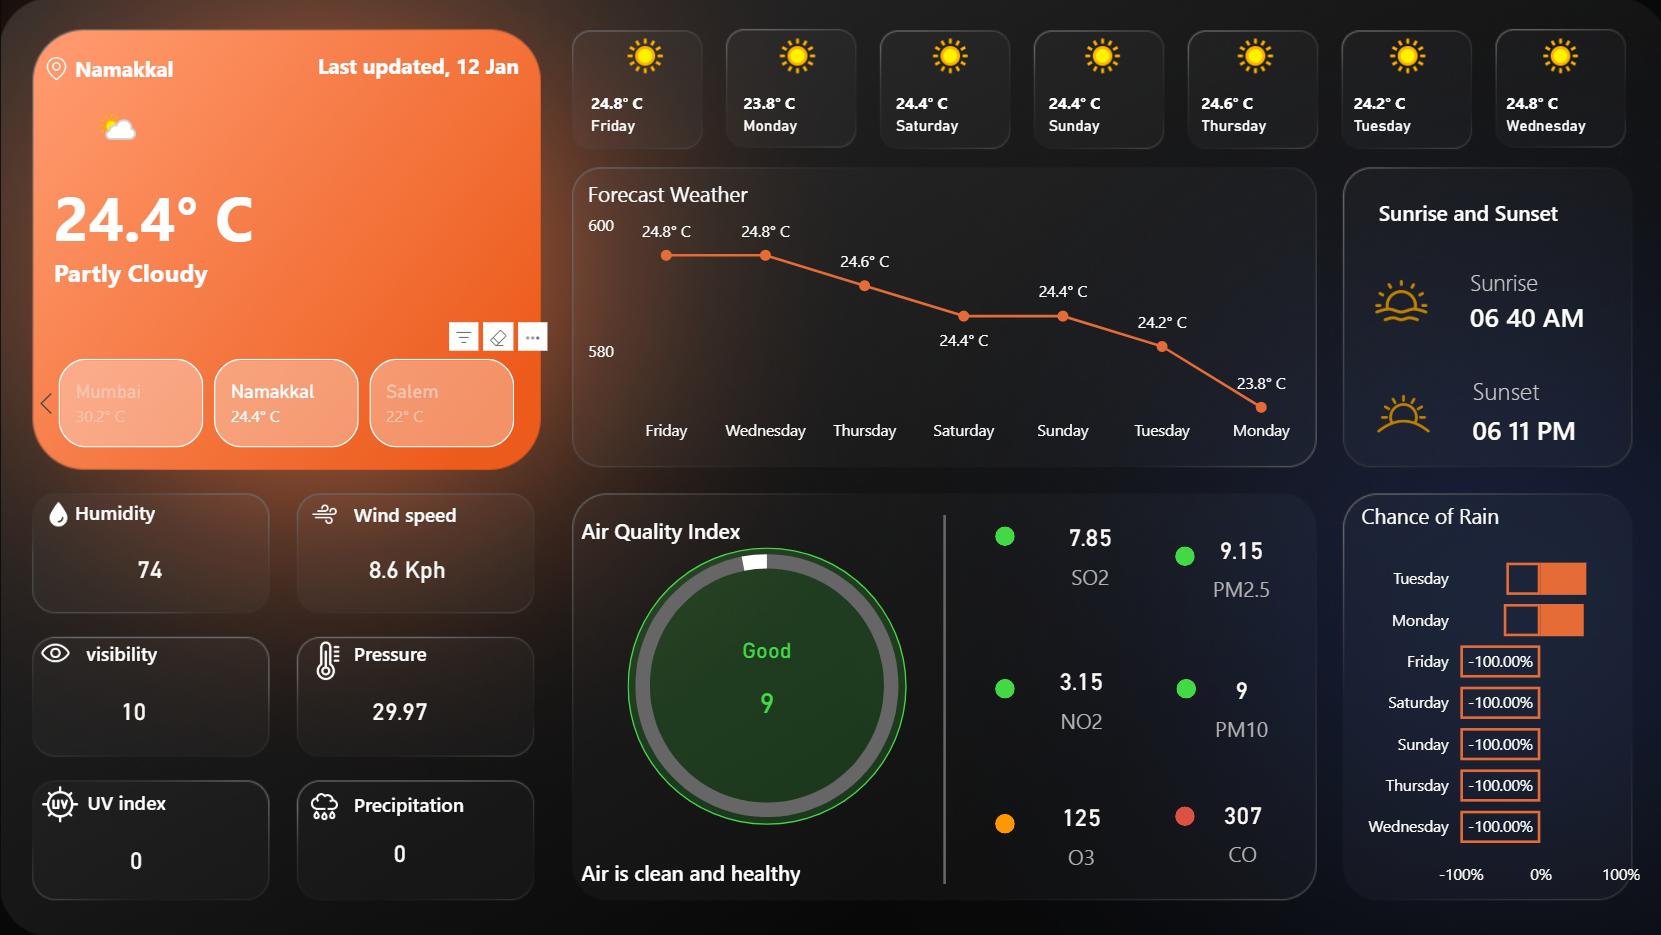

The page's visual inventory and layout, read from the dashboard file:
{"tool":"powerbi","page":{"name":"Page 1","canvas":[1280,720],"ordinal":0},"visuals":[{"type":"shape","box":[481.6,419.9,214.1,212.7],"z":0},{"type":"advancedSlicerVisual","fields":{"Values":["Location.location.name"]},"box":[20.6,270.3,400.7,78.2],"z":1000},{"type":"shape","box":[41.2,126.2,207.2,78.2],"z":2000},{"type":"shape","box":[41.2,188,345.8,41.2],"z":3000},{"type":"shape","box":[57.6,31.6,144.1,41.2],"z":4000},{"type":"shape","box":[238.8,31.6,159.2,35.7],"z":5000},{"type":"image","box":[30.2,37,27.4,30.2],"z":6000},{"type":"cardVisual","fields":{"Data":["Min(current.current.condition.icon)"]},"box":[20.6,54.9,104.3,89.2],"z":7000},{"type":"image","box":[20.6,483,45.3,35.7],"z":8000},{"type":"shape","box":[65.9,483,111.1,35.7],"z":9000},{"type":"image","box":[22,380.1,45.3,30.2],"z":10000},{"type":"image","box":[24.7,596.9,42.5,39.8],"z":11000},{"type":"image","box":[231.9,483,39.8,46.7],"z":12000},{"type":"image","box":[222.3,601,52.1,35.7],"z":13000},{"type":"image","box":[225,380.1,46.7,30.2],"z":14000},{"type":"shape","box":[271.7,483,111.1,35.7],"z":15000},{"type":"shape","box":[67.2,596.9,63.1,35.7],"z":16000},{"type":"shape","box":[271.7,380.1,93.3,30.2],"z":17000},{"type":"shape","box":[57.6,374.6,111.1,35.7],"z":18000},{"type":"shape","box":[271.7,601,93.3,31.6],"z":19000},{"type":"card","fields":{"Values":["Sum(current.current.humidity)"]},"box":[39.8,408.9,149.6,56.3],"z":20000},{"type":"card","fields":{"Values":["_Measures.Wind_speed"]},"box":[237.4,408.9,149.6,56.3],"z":21000},{"type":"card","fields":{"Values":["Sum(current.current.vis_km)"]},"box":[27.4,518.7,149.6,56.3],"z":22000},{"type":"card","fields":{"Values":["Sum(current.current.uv)"]},"box":[30.2,632.6,149.6,56.3],"z":23000},{"type":"card","fields":{"Values":["Sum(current.current.pressure_in)"]},"box":[231.9,518.7,149.6,56.3],"z":24000},{"type":"card","fields":{"Values":["Sum(current.current.precip_in)"]},"box":[231.9,636.7,149.6,37],"z":25000},{"type":"advancedSlicerVisual","fields":{"Values":["forecast_day.Day_name"]},"box":[435,12.3,824.7,108.4],"z":26000},{"type":"lineChart","title":"Forecast Weather","fields":{"Y":["Sum(forecast_day.forecast.forecastday.day.avgtemp_c)"],"Category":["forecast_day.Day_name"]},"box":[446,137.2,557.1,211.3],"z":27000},{"type":"shape","box":[446,392.5,163.3,28.8],"z":28000},{"type":"shape","box":[1127.6,188.1,132.5,56.8],"z":29000},{"type":"shape","box":[1129.3,299.1,127.6,60.4],"z":30000},{"type":"shape","box":[1127.6,214.8,132.5,55.7],"z":31000},{"type":"shape","box":[1129.3,269,127.6,60.4],"z":32000},{"type":"image","box":[1038.8,285.4,74.1,63.1],"z":33000},{"type":"image","box":[1041.5,205.8,67.2,49.4],"z":34000},{"type":"hundredPercentStackedBarChart","title":"Chance of Rain","fields":{"Y":["Sum(forecast_day.forecast.forecastday.day.daily_chance_of_rain)","current.Left_value_rain"],"Category":["forecast_day.Day_name"]},"box":[1038.8,384.2,223.7,304.6],"z":35000},{"type":"shape","box":[1057,147.2,163.3,28.8],"z":36000},{"type":"card","fields":{"Values":["Sum(current.current.air_quality.pm10)"]},"box":[901,500.2,102.5,81.1],"z":37000},{"type":"card","fields":{"Values":["Sum(current.current.air_quality.co)"]},"box":[902.5,596.6,102.5,81.1],"z":38000},{"type":"card","fields":{"Values":["Sum(current.current.air_quality.o3)"]},"box":[778.6,598.1,102.5,81.1],"z":39000},{"type":"card","fields":{"Values":["Sum(current.current.air_quality.no2)"]},"box":[778.6,494.1,102.5,81.1],"z":40000},{"type":"card","fields":{"Values":["Sum(current.current.air_quality.so2)"]},"box":[784.7,383.9,102.5,81.1],"z":41000},{"type":"card","fields":{"Values":["Sum(current.current.air_quality.pm2_5)"]},"box":[901,393.1,102.5,81.1],"z":42000},{"type":"shape","box":[902.5,520.1,15.3,15.3],"z":43000},{"type":"shape","box":[901,618,15.3,15.3],"z":44000},{"type":"shape","box":[763.3,403.8,15.3,15.3],"z":45000},{"type":"shape","box":[763.3,624.1,15.3,15.3],"z":46000},{"type":"shape","box":[901,419.1,15.3,15.3],"z":47000},{"type":"shape","box":[763.3,520.1,15.3,15.3],"z":48000},{"type":"shape","box":[685.3,394.6,78,283],"z":49000},{"type":"card","fields":{"Values":["Sum(current.current.air_quality.pm10)"]},"box":[536.5,488.5,102.9,81],"z":50000},{"type":"donutChart","fields":{"Y":["_Measures.Left_value_PM10","Sum(current.current.air_quality.pm10)"]},"box":[437.7,395.2,300.5,262.1],"z":51000},{"type":"shape","box":[446,639.5,238.8,57.6],"z":52000}]}

Visuals, with their boxes in screenshot pixels (x1, y1, x2, y2), scaled from the page's 1280x720 canvas onto the 1661x935 screenshot:
shape: 625:545:903:822
advancedSlicerVisual - Location.location.name: 27:351:547:453
shape: 53:164:322:265
shape: 53:244:502:298
shape: 75:41:262:95
shape: 310:41:516:87
image: 39:48:75:87
cardVisual - Min(current.current.condition.icon): 27:71:162:187
image: 27:627:86:674
shape: 86:627:230:674
image: 29:494:87:533
image: 32:775:87:827
image: 301:627:353:688
image: 288:780:356:827
image: 292:494:353:533
shape: 353:627:497:674
shape: 87:775:169:822
shape: 353:494:474:533
shape: 75:486:219:533
shape: 353:780:474:822
card - Sum(current.current.humidity): 52:531:246:604
card - _Measures.Wind_speed: 308:531:502:604
card - Sum(current.current.vis_km): 36:674:230:747
card - Sum(current.current.uv): 39:822:233:895
card - Sum(current.current.pressure_in): 301:674:495:747
card - Sum(current.current.precip_in): 301:827:495:875
advancedSlicerVisual - forecast_day.Day_name: 564:16:1635:157
"Forecast Weather" lineChart: 579:178:1302:453
shape: 579:510:791:547
shape: 1463:244:1635:318
shape: 1465:388:1631:467
shape: 1463:279:1635:351
shape: 1465:349:1631:428
image: 1348:371:1444:453
image: 1352:267:1439:331
"Chance of Rain" hundredPercentStackedBarChart: 1348:499:1638:894
shape: 1372:191:1584:229
card - Sum(current.current.air_quality.pm10): 1169:650:1302:755
card - Sum(current.current.air_quality.co): 1171:775:1304:880
card - Sum(current.current.air_quality.o3): 1010:777:1143:882
card - Sum(current.current.air_quality.no2): 1010:642:1143:747
card - Sum(current.current.air_quality.so2): 1018:499:1151:604
card - Sum(current.current.air_quality.pm2_5): 1169:510:1302:616
shape: 1171:675:1191:695
shape: 1169:803:1189:822
shape: 991:524:1010:544
shape: 991:810:1010:830
shape: 1169:544:1189:564
shape: 991:675:1010:695
shape: 889:512:991:880
card - Sum(current.current.air_quality.pm10): 696:634:830:740
donutChart - _Measures.Left_value_PM10 x Sum(current.current.air_quality.pm10): 568:513:958:854
shape: 579:830:889:905
